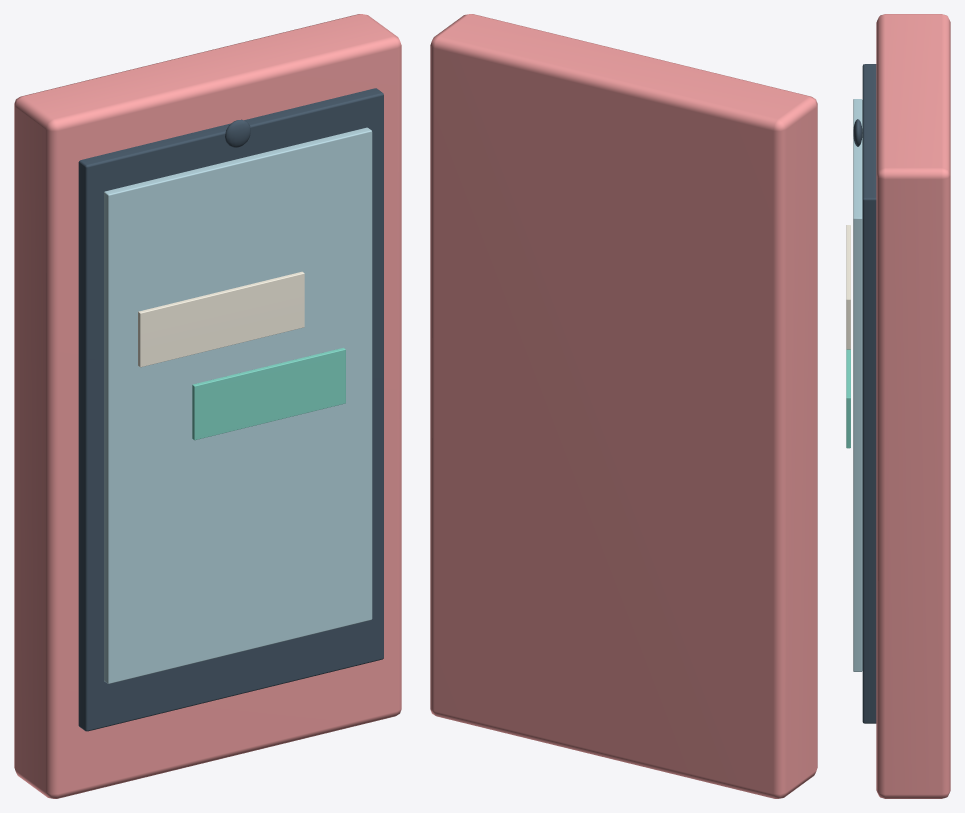
File: PocketPhone.fbx
3 views of the same model, side by side, from view 1: azimuth 30°, elevation 25°; view 2: azimuth 150°, elevation 25°; view 3: azimuth 270°, elevation 25° (orthographic). The views are drawn at different scales.
Visible parts, largest first — view 1: Screen, Case, ScreenGlass, MessageOne, MessageTwo; view 2: Case; view 3: Case, ScreenGlass, Screen, MessageOne, MessageTwo, CameraDot.
Part boxes in pixels (x1,y1,x2,y2): Screen: [104, 127, 372, 683]; Case: [14, 14, 401, 798]; ScreenGlass: [78, 88, 383, 731]; MessageOne: [138, 271, 304, 367]; MessageTwo: [192, 347, 345, 440]; Case: [430, 14, 817, 798]; Case: [876, 14, 950, 798]; ScreenGlass: [862, 64, 876, 723]; Screen: [853, 99, 862, 671]; MessageOne: [846, 225, 850, 349]; MessageTwo: [846, 349, 850, 448]; CameraDot: [853, 119, 862, 146].
Size of the model in its own units: 0.082 by 0.15 by 0.0225.
